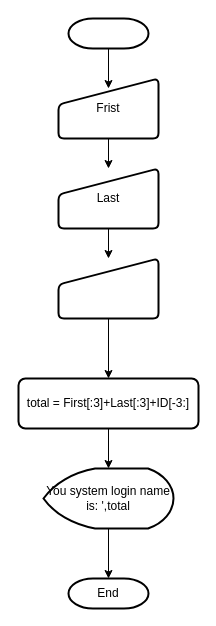
The diagram is 216 pixels wide and 626 high, and some of its shapes have lost their labels. Here are the shapes that lost their labels. From the top down, the centre of each, then its label:
(x=108, y=33): Start
(x=108, y=288): ID
